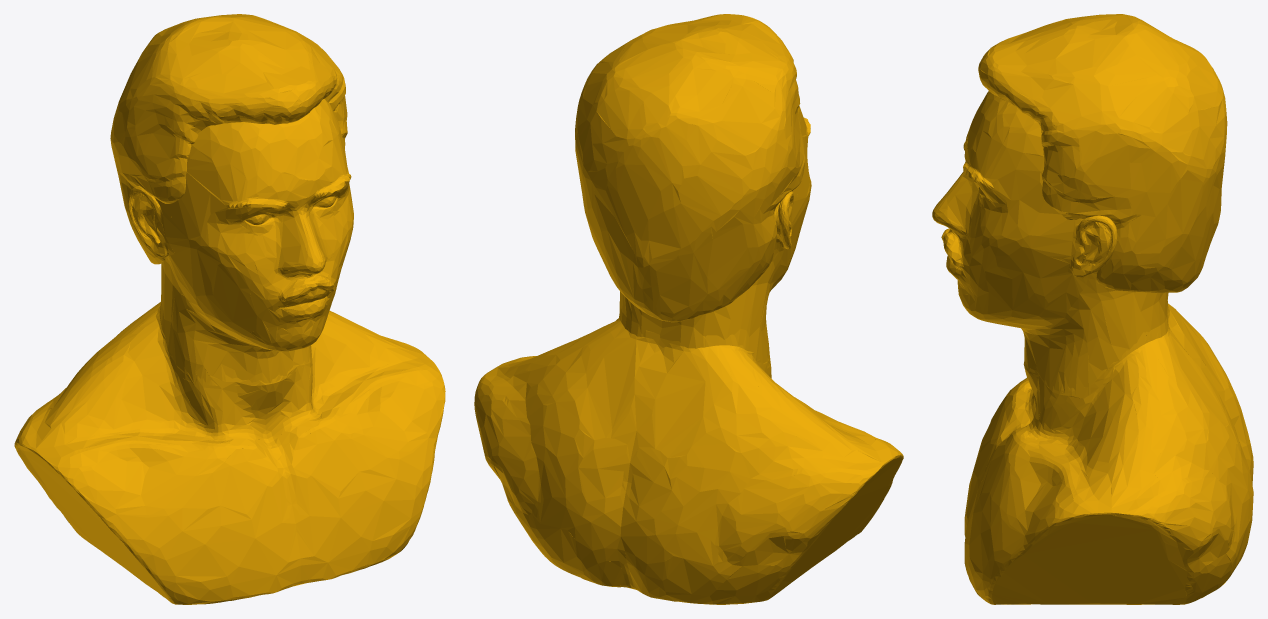
File: issac.glb
3 views of the same model, side by side, from view 1: azimuth 30°, elevation 25°; view 2: azimuth 150°, elevation 25°; view 3: azimuth 270°, elevation 25° (orthographic).
Visible parts, largest first — view 1: Issac 3Dless Com Simplified; view 2: Issac 3Dless Com Simplified; view 3: Issac 3Dless Com Simplified.
Part boxes in pixels (<box>): Issac 3Dless Com Simplified: <box>14,14,445,604</box>; Issac 3Dless Com Simplified: <box>474,14,903,604</box>; Issac 3Dless Com Simplified: <box>932,14,1253,604</box>.
Size of the model in its own units: 1.84 by 2.27 by 1.28.
